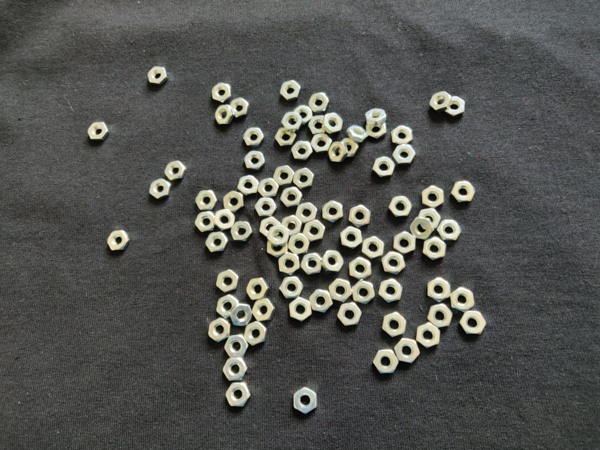nut: (459, 311, 487, 335), (427, 304, 454, 328), (294, 387, 317, 415), (374, 350, 399, 375), (395, 339, 420, 364), (225, 383, 251, 407), (451, 288, 475, 313), (423, 236, 447, 261), (417, 323, 440, 349), (383, 313, 407, 337), (338, 303, 362, 327), (309, 290, 333, 314), (379, 279, 403, 303), (428, 278, 451, 303), (410, 217, 435, 240), (225, 335, 249, 358), (244, 322, 267, 346), (289, 298, 312, 322), (252, 299, 276, 322), (216, 270, 240, 293), (329, 279, 352, 303), (352, 281, 375, 305), (382, 252, 406, 275), (223, 359, 248, 381), (217, 294, 239, 319), (208, 319, 231, 342), (230, 303, 253, 326), (247, 278, 270, 301), (349, 257, 372, 280), (362, 236, 385, 259), (451, 181, 476, 202), (278, 253, 300, 276), (321, 250, 344, 272), (394, 231, 416, 254), (340, 227, 363, 249), (295, 202, 318, 224), (349, 206, 372, 228), (422, 186, 445, 208), (280, 277, 304, 298), (437, 220, 462, 240), (419, 208, 441, 230), (107, 230, 130, 251), (389, 197, 413, 217), (393, 145, 417, 165), (206, 232, 228, 253), (301, 253, 322, 275), (267, 236, 288, 258), (289, 233, 310, 255), (304, 220, 325, 242), (260, 217, 281, 239), (281, 216, 303, 237), (322, 201, 343, 223), (214, 210, 236, 231), (224, 191, 245, 213), (238, 175, 260, 196), (293, 168, 315, 189), (373, 156, 395, 177), (430, 91, 452, 112), (195, 191, 218, 211), (280, 187, 303, 207), (281, 112, 304, 132), (268, 226, 289, 247), (322, 113, 343, 134), (150, 179, 172, 199), (165, 161, 187, 181), (273, 166, 295, 186), (391, 125, 413, 145), (258, 178, 279, 198), (280, 80, 301, 100), (231, 222, 253, 241), (255, 198, 277, 217), (244, 151, 266, 170), (275, 128, 297, 147), (311, 134, 333, 153), (195, 212, 215, 232), (215, 105, 235, 125), (329, 142, 349, 162), (339, 138, 359, 158), (88, 122, 109, 141), (292, 141, 313, 160), (309, 93, 330, 112), (243, 128, 265, 146), (346, 126, 369, 143), (212, 83, 232, 102), (446, 97, 466, 116), (230, 98, 249, 117), (308, 116, 327, 135), (293, 106, 313, 124), (366, 122, 387, 139), (366, 109, 387, 126), (148, 67, 168, 84)
